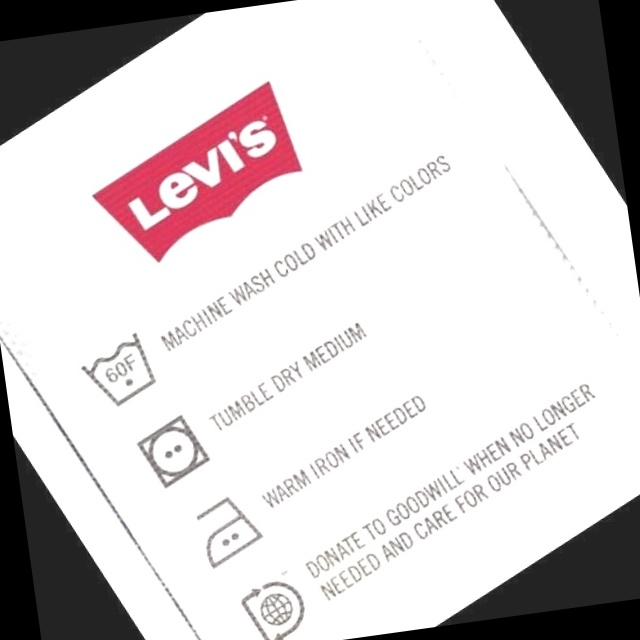30C: (79, 325, 162, 412)
iron_medium: (186, 487, 271, 571)
tumble_dry_medium: (134, 408, 217, 491)
